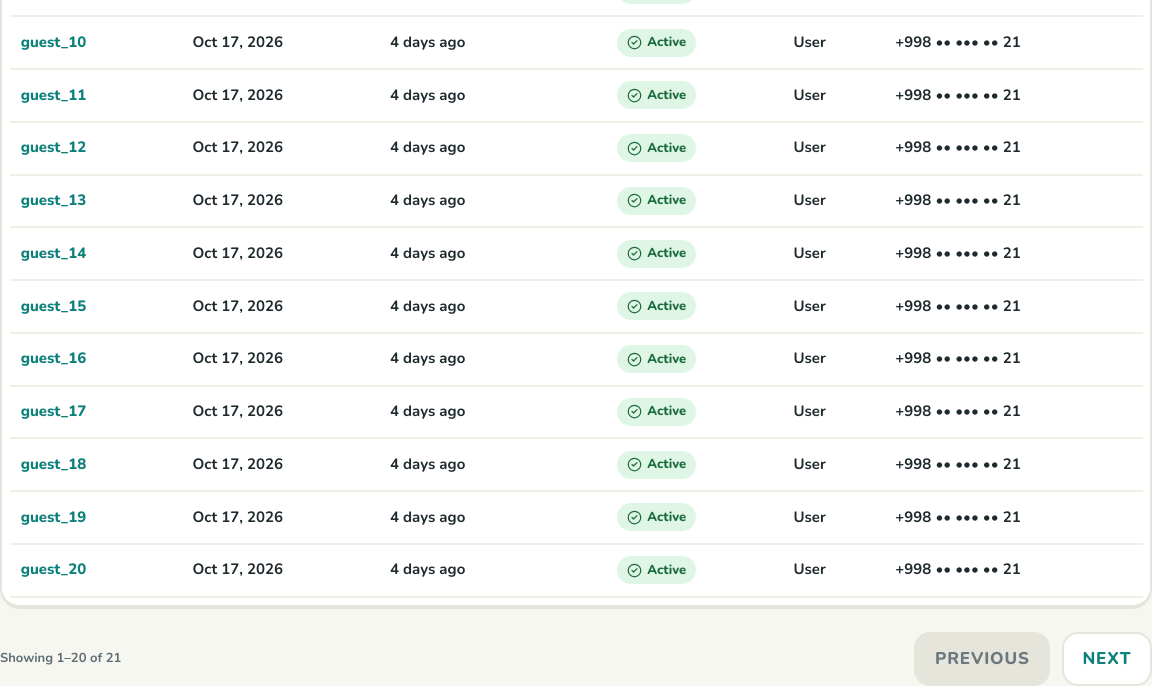
Test: AC14 · users table › pages forward and back with cursors
(page scrolled)
Expected: the message "Showing 1–20 of 21" is shown, x1=0 y1=650 x2=121 y2=667
Expected: the button with test id "admin.users-prev" is disabled, x1=914 y1=632 x2=1050 y2=685
Click the button with test id "admin.users-next": coordinates (1107, 659) x1=1062 y1=632 x2=1151 y2=685
(page scrolled)
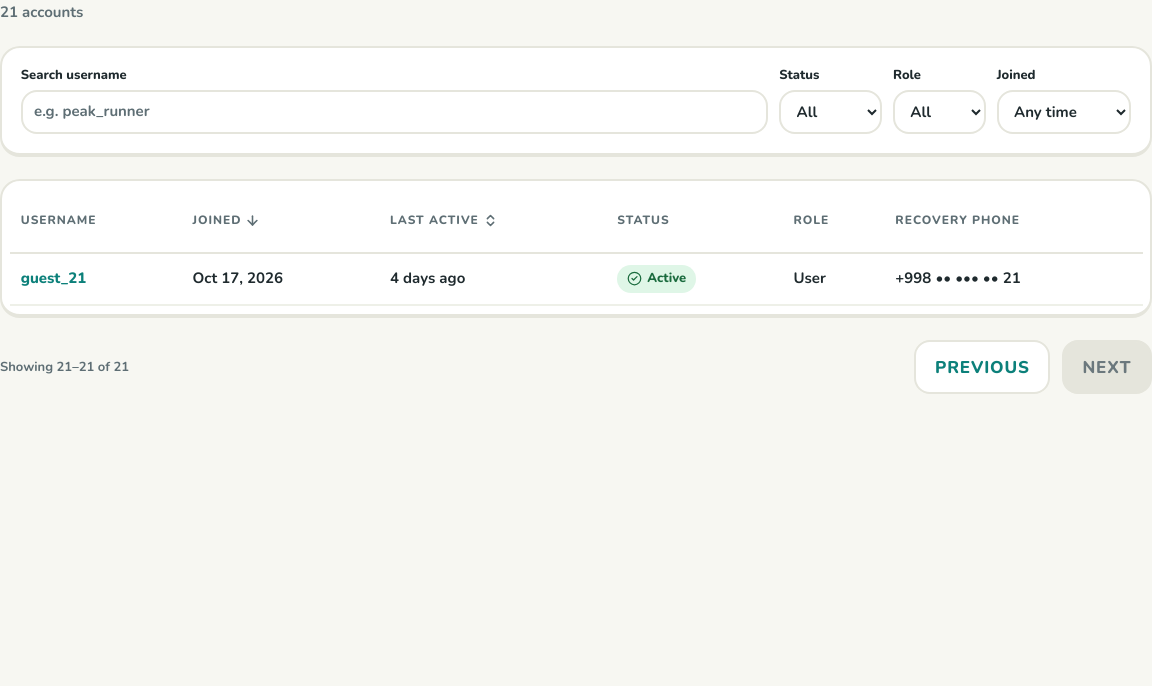
Result: the message with test id "admin.users-total" reads "Showing 21–21 of 21" at x1=0 y1=358 x2=129 y2=376
Result: the button with test id "admin.users-next" is disabled at x1=1062 y1=340 x2=1151 y2=394
Click the button with test id "admin.users-prev": coordinates (982, 367) x1=914 y1=340 x2=1050 y2=394
(page scrolled)
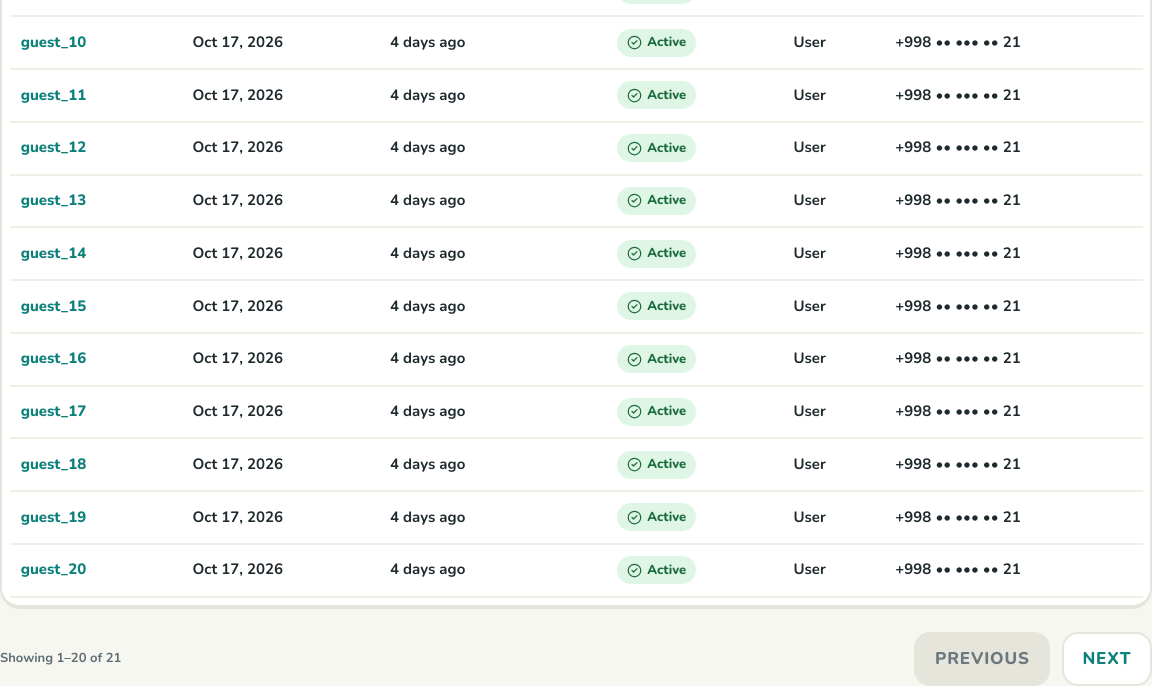
Result: the message with test id "admin.users-total" reads "Showing 1–20 of 21" at x1=0 y1=649 x2=121 y2=667
